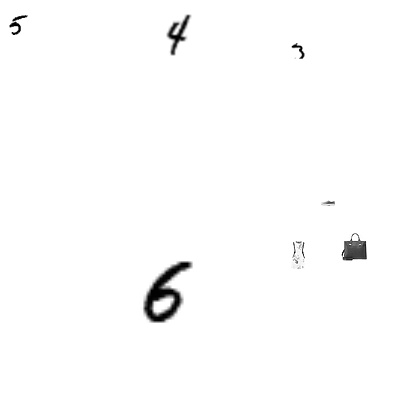3: (288, 39, 310, 61)
4: (149, 5, 205, 61)
5: (3, 10, 31, 38)
6: (120, 250, 204, 334)
Bag: (340, 233, 368, 261)
Dress: (284, 241, 312, 269)
Sneaker: (321, 196, 335, 210)
